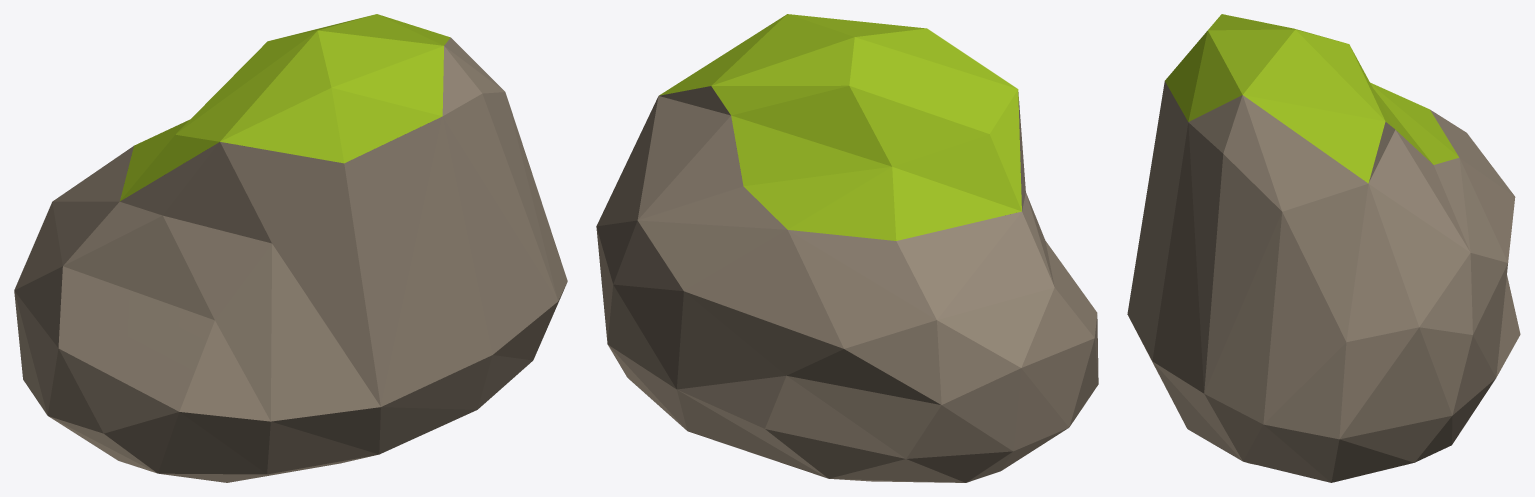
File: village_pack_rock_3.glb
3 renders of one model, left to right at view 1: azimuth 30°, elevation 25°; view 2: azimuth 150°, elevation 25°; view 3: azimuth 270°, elevation 25°, orthographic. The views are drawn at different scales.
Visible parts, largest first — view 1: rock 3_grass 1_0; view 2: rock 3_grass 1_0; view 3: rock 3_grass 1_0.
Boxes of the visible parts, <box> form: rock 3_grass 1_0: <box>14,14,567,482</box>; rock 3_grass 1_0: <box>596,14,1098,482</box>; rock 3_grass 1_0: <box>1127,14,1520,482</box>.
Bounding box in the file's own units: 4.01 × 3.22 × 2.82.
